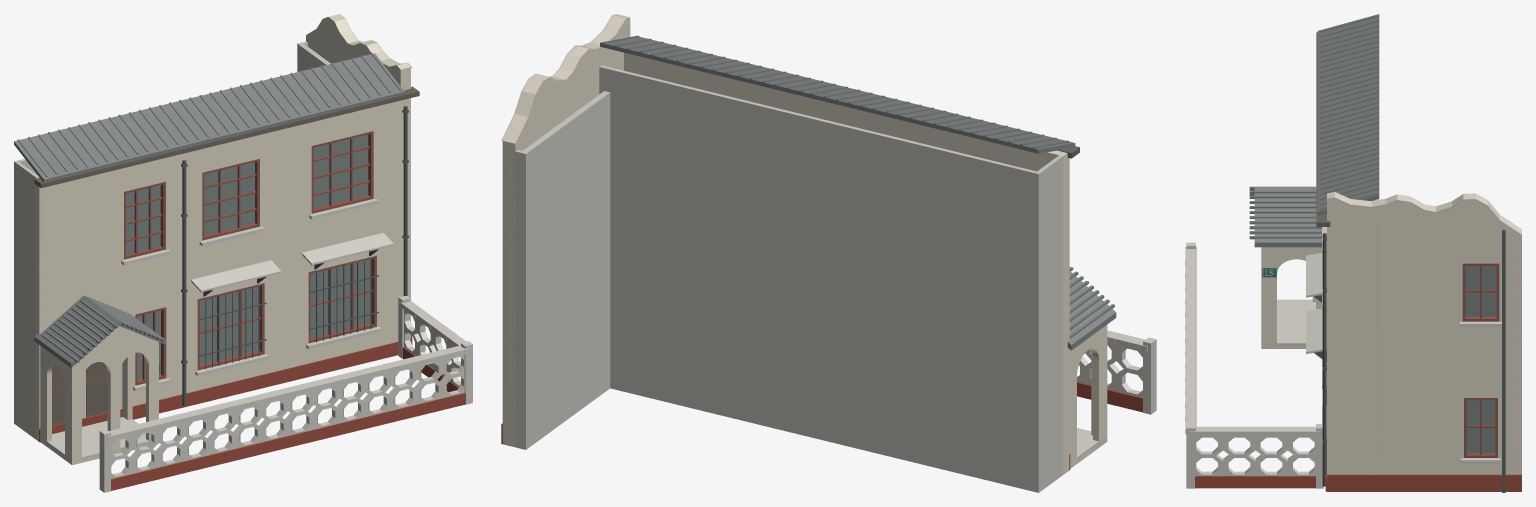
The model's file is xuhui-yongjia-village-no15-raw.glb.
The picture shows the model from 3 angles, left to right: view 1: azimuth 30°, elevation 25°; view 2: azimuth 150°, elevation 25°; view 3: azimuth 270°, elevation 25°; orthographic projection. The views are drawn at different scales.
Visible parts, largest first — view 1: 永嘉新村15号拱廊与东端山墙; view 2: 永嘉新村15号拱廊与东端山墙; view 3: 永嘉新村15号拱廊与东端山墙.
Part boxes in pixels (x1,y1,x2,y2): 永嘉新村15号拱廊与东端山墙: (14, 14, 472, 492); 永嘉新村15号拱廊与东端山墙: (501, 14, 1156, 492); 永嘉新村15号拱廊与东端山墙: (1185, 14, 1521, 492).
Size of the model in its own units: 9.49 by 6.84 by 7.09.
